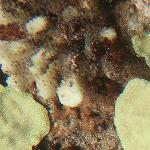dead: (9, 12, 147, 147)
